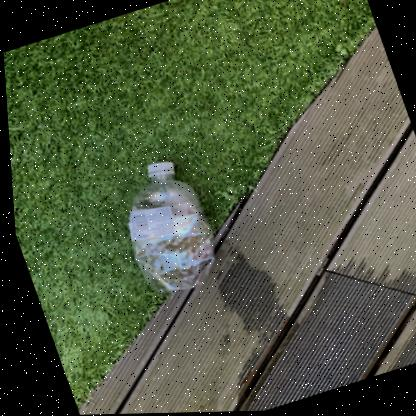Plastic: (124, 162, 209, 292)
